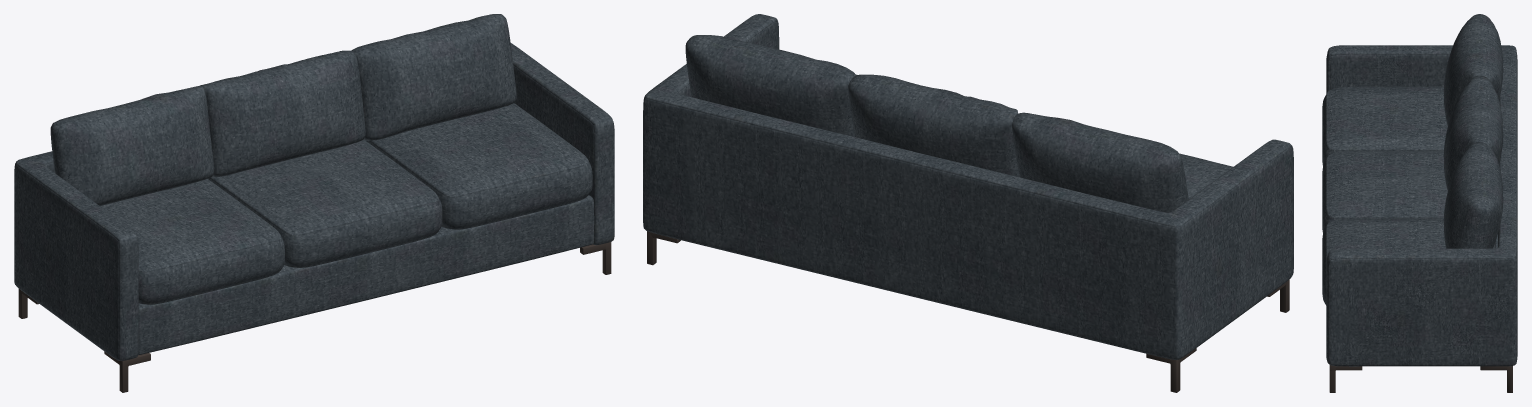
The picture shows the model from 3 angles, left to right: view 1: azimuth 30°, elevation 25°; view 2: azimuth 150°, elevation 25°; view 3: azimuth 270°, elevation 25°; orthographic projection. The views are drawn at different scales.
Visible parts, largest first — view 1: RootNode; view 2: RootNode; view 3: RootNode.
Part boxes in pixels (x1,y1,x2,y2): RootNode: [14, 14, 614, 392]; RootNode: [643, 14, 1293, 392]; RootNode: [1322, 14, 1517, 392].
Bounding box in the file's own units: 2.22 × 0.8744 × 0.859.
Materials: 1 (1 with a texture image).
